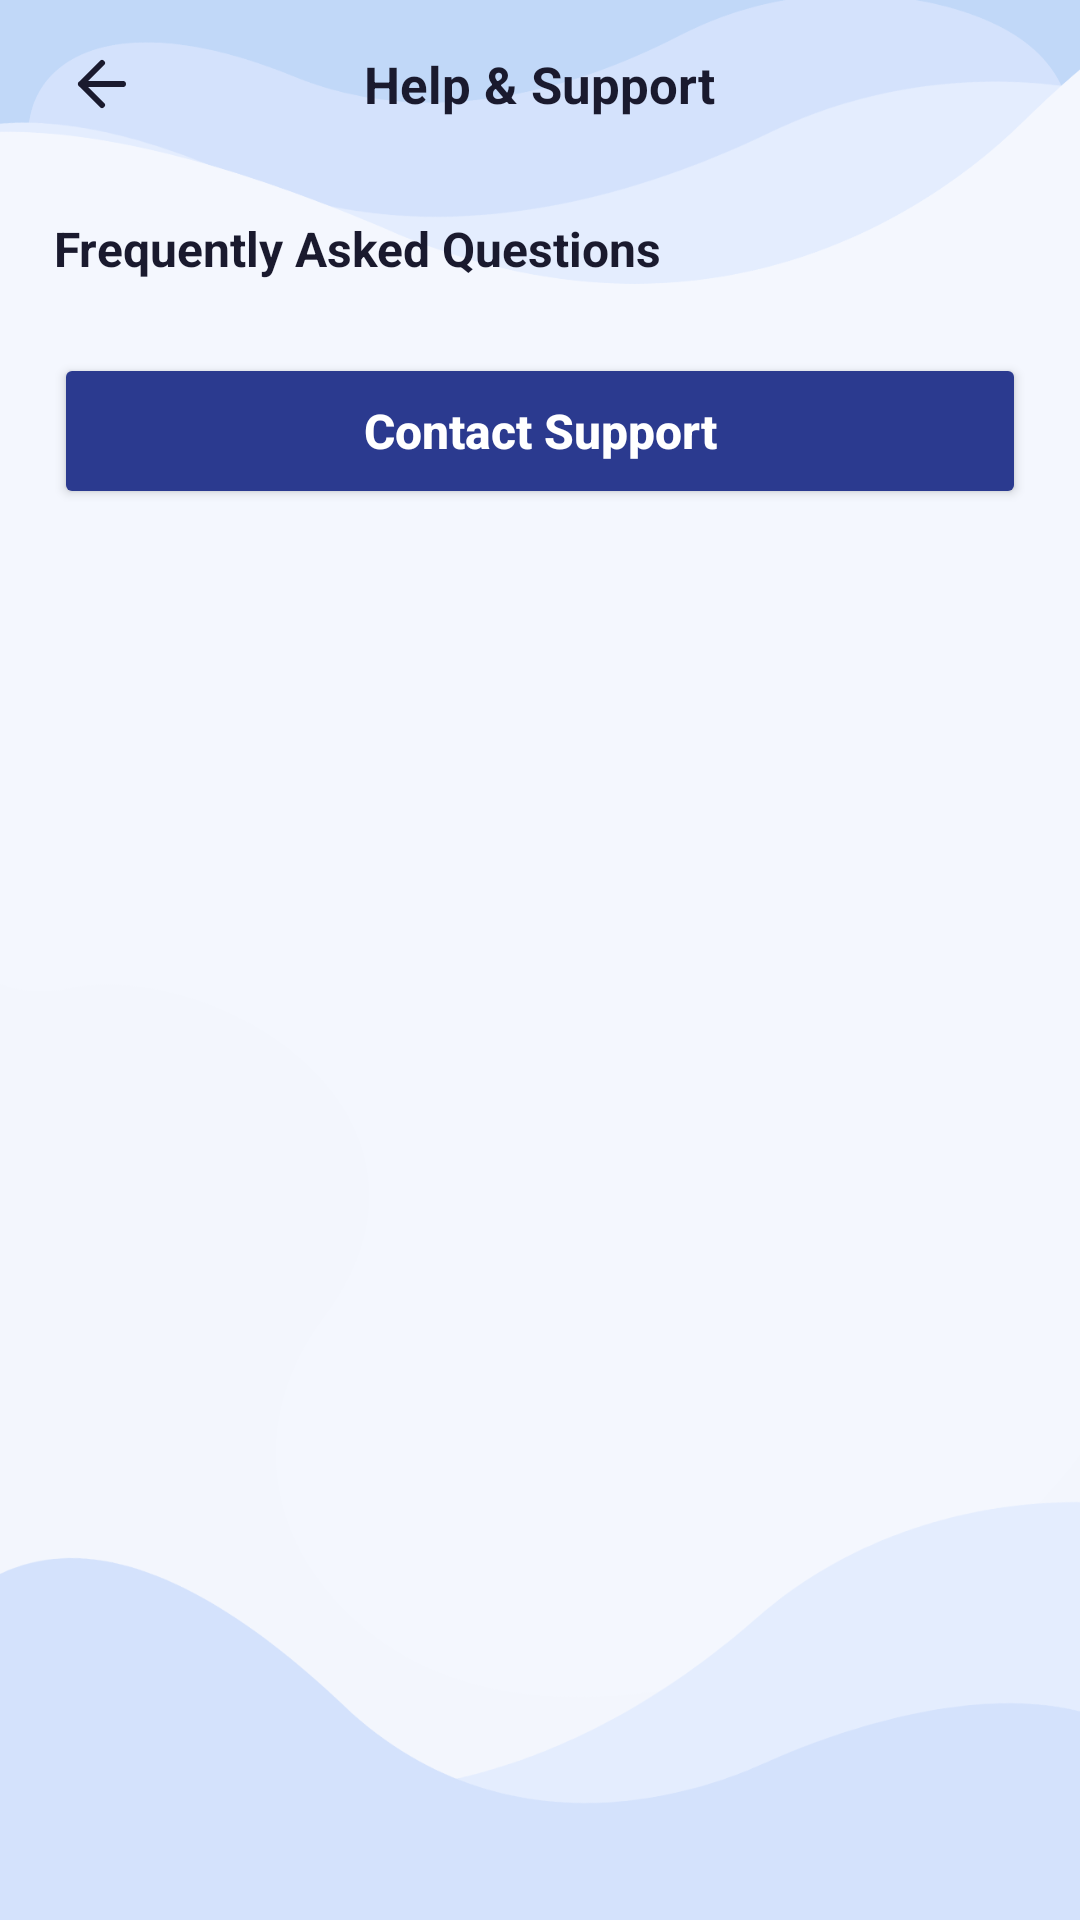

Point at icon controls on the screen. Image size 1080×1920, points as [x,y].
Back: [102,99]
